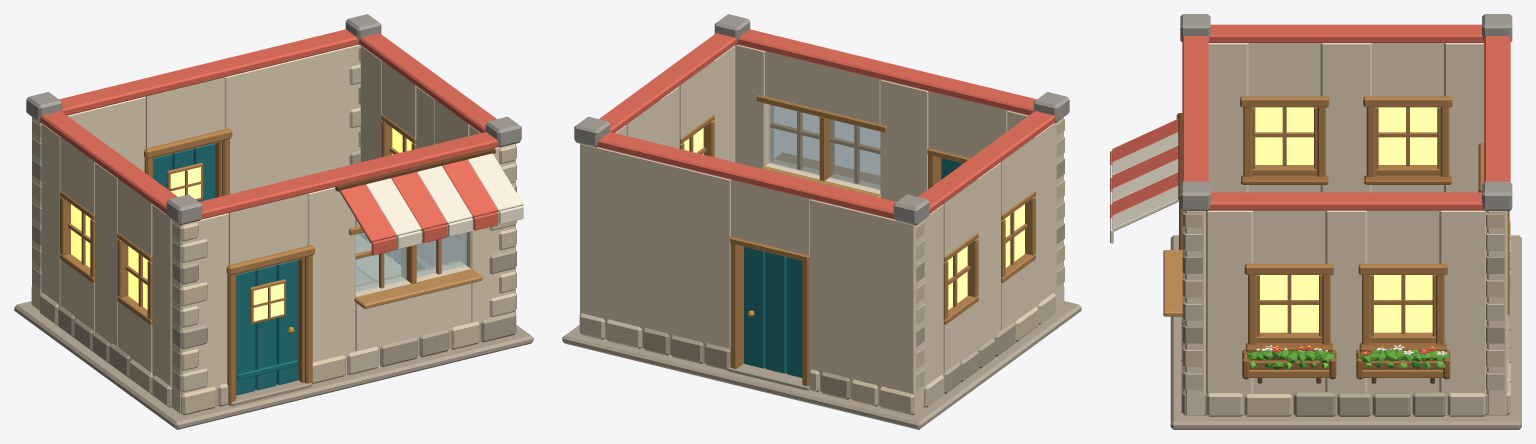
File: cafe_interior_shell.glb
3 views of the same model, side by side, from view 1: azimuth 30°, elevation 25°; view 2: azimuth 150°, elevation 25°; view 3: azimuth 270°, elevation 25° (orthographic). The views are drawn at different scales.
Visible parts, largest first — view 1: cafe_interior_shell_cutaway, cafe_interior_shell, part_door_leaf_front, part_door_leaf_back; view 2: cafe_interior_shell, cafe_interior_shell_cutaway, part_door_leaf_back; view 3: cafe_interior_shell_cutaway, cafe_interior_shell.
Boxes of the visible parts, x1,y1,x2,y2 form: cafe_interior_shell_cutaway: (171,33,523,415); cafe_interior_shell: (14,14,533,429); part_door_leaf_front: (236,260,298,395); part_door_leaf_back: (153,143,215,201); cafe_interior_shell: (562,92,1081,429); cafe_interior_shell_cutaway: (599,14,1064,310); part_door_leaf_back: (744,247,802,377); cafe_interior_shell_cutaway: (1110,36,1486,416); cafe_interior_shell: (1170,14,1521,429).
Bounding box in the file's own units: 4.88 × 2.72 × 4.34.
